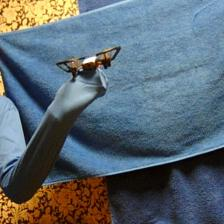drone: (56, 45, 121, 77)
